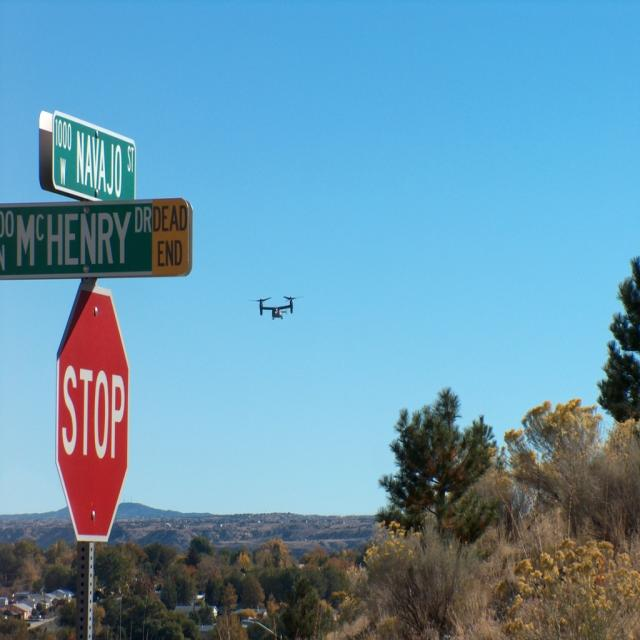Stop-sign: (52, 282, 128, 544)
